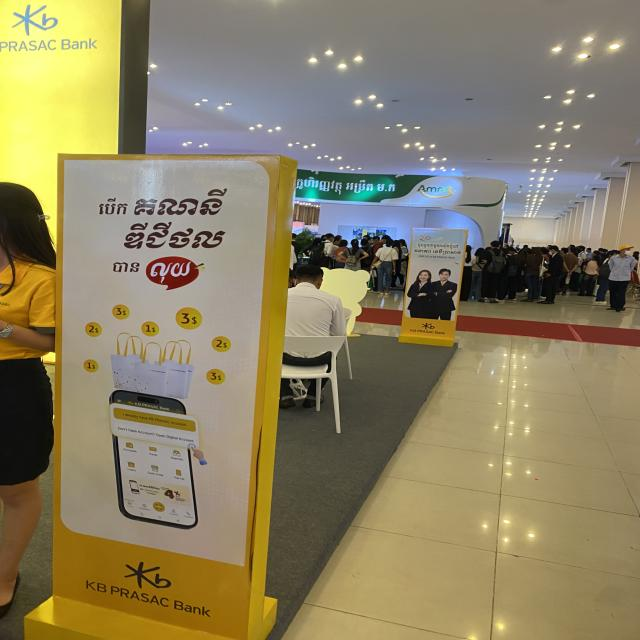1: (412, 248, 462, 257)
2: (295, 175, 400, 200)
507: (143, 324, 157, 333), (86, 360, 97, 370)
632: (214, 337, 228, 350), (87, 324, 101, 335)
704: (177, 311, 199, 325), (208, 370, 223, 382), (114, 306, 129, 316)
Yolov11kh: (122, 219, 230, 254), (133, 185, 233, 219), (146, 260, 201, 285), (96, 194, 130, 217), (111, 258, 144, 276), (415, 242, 461, 250)
